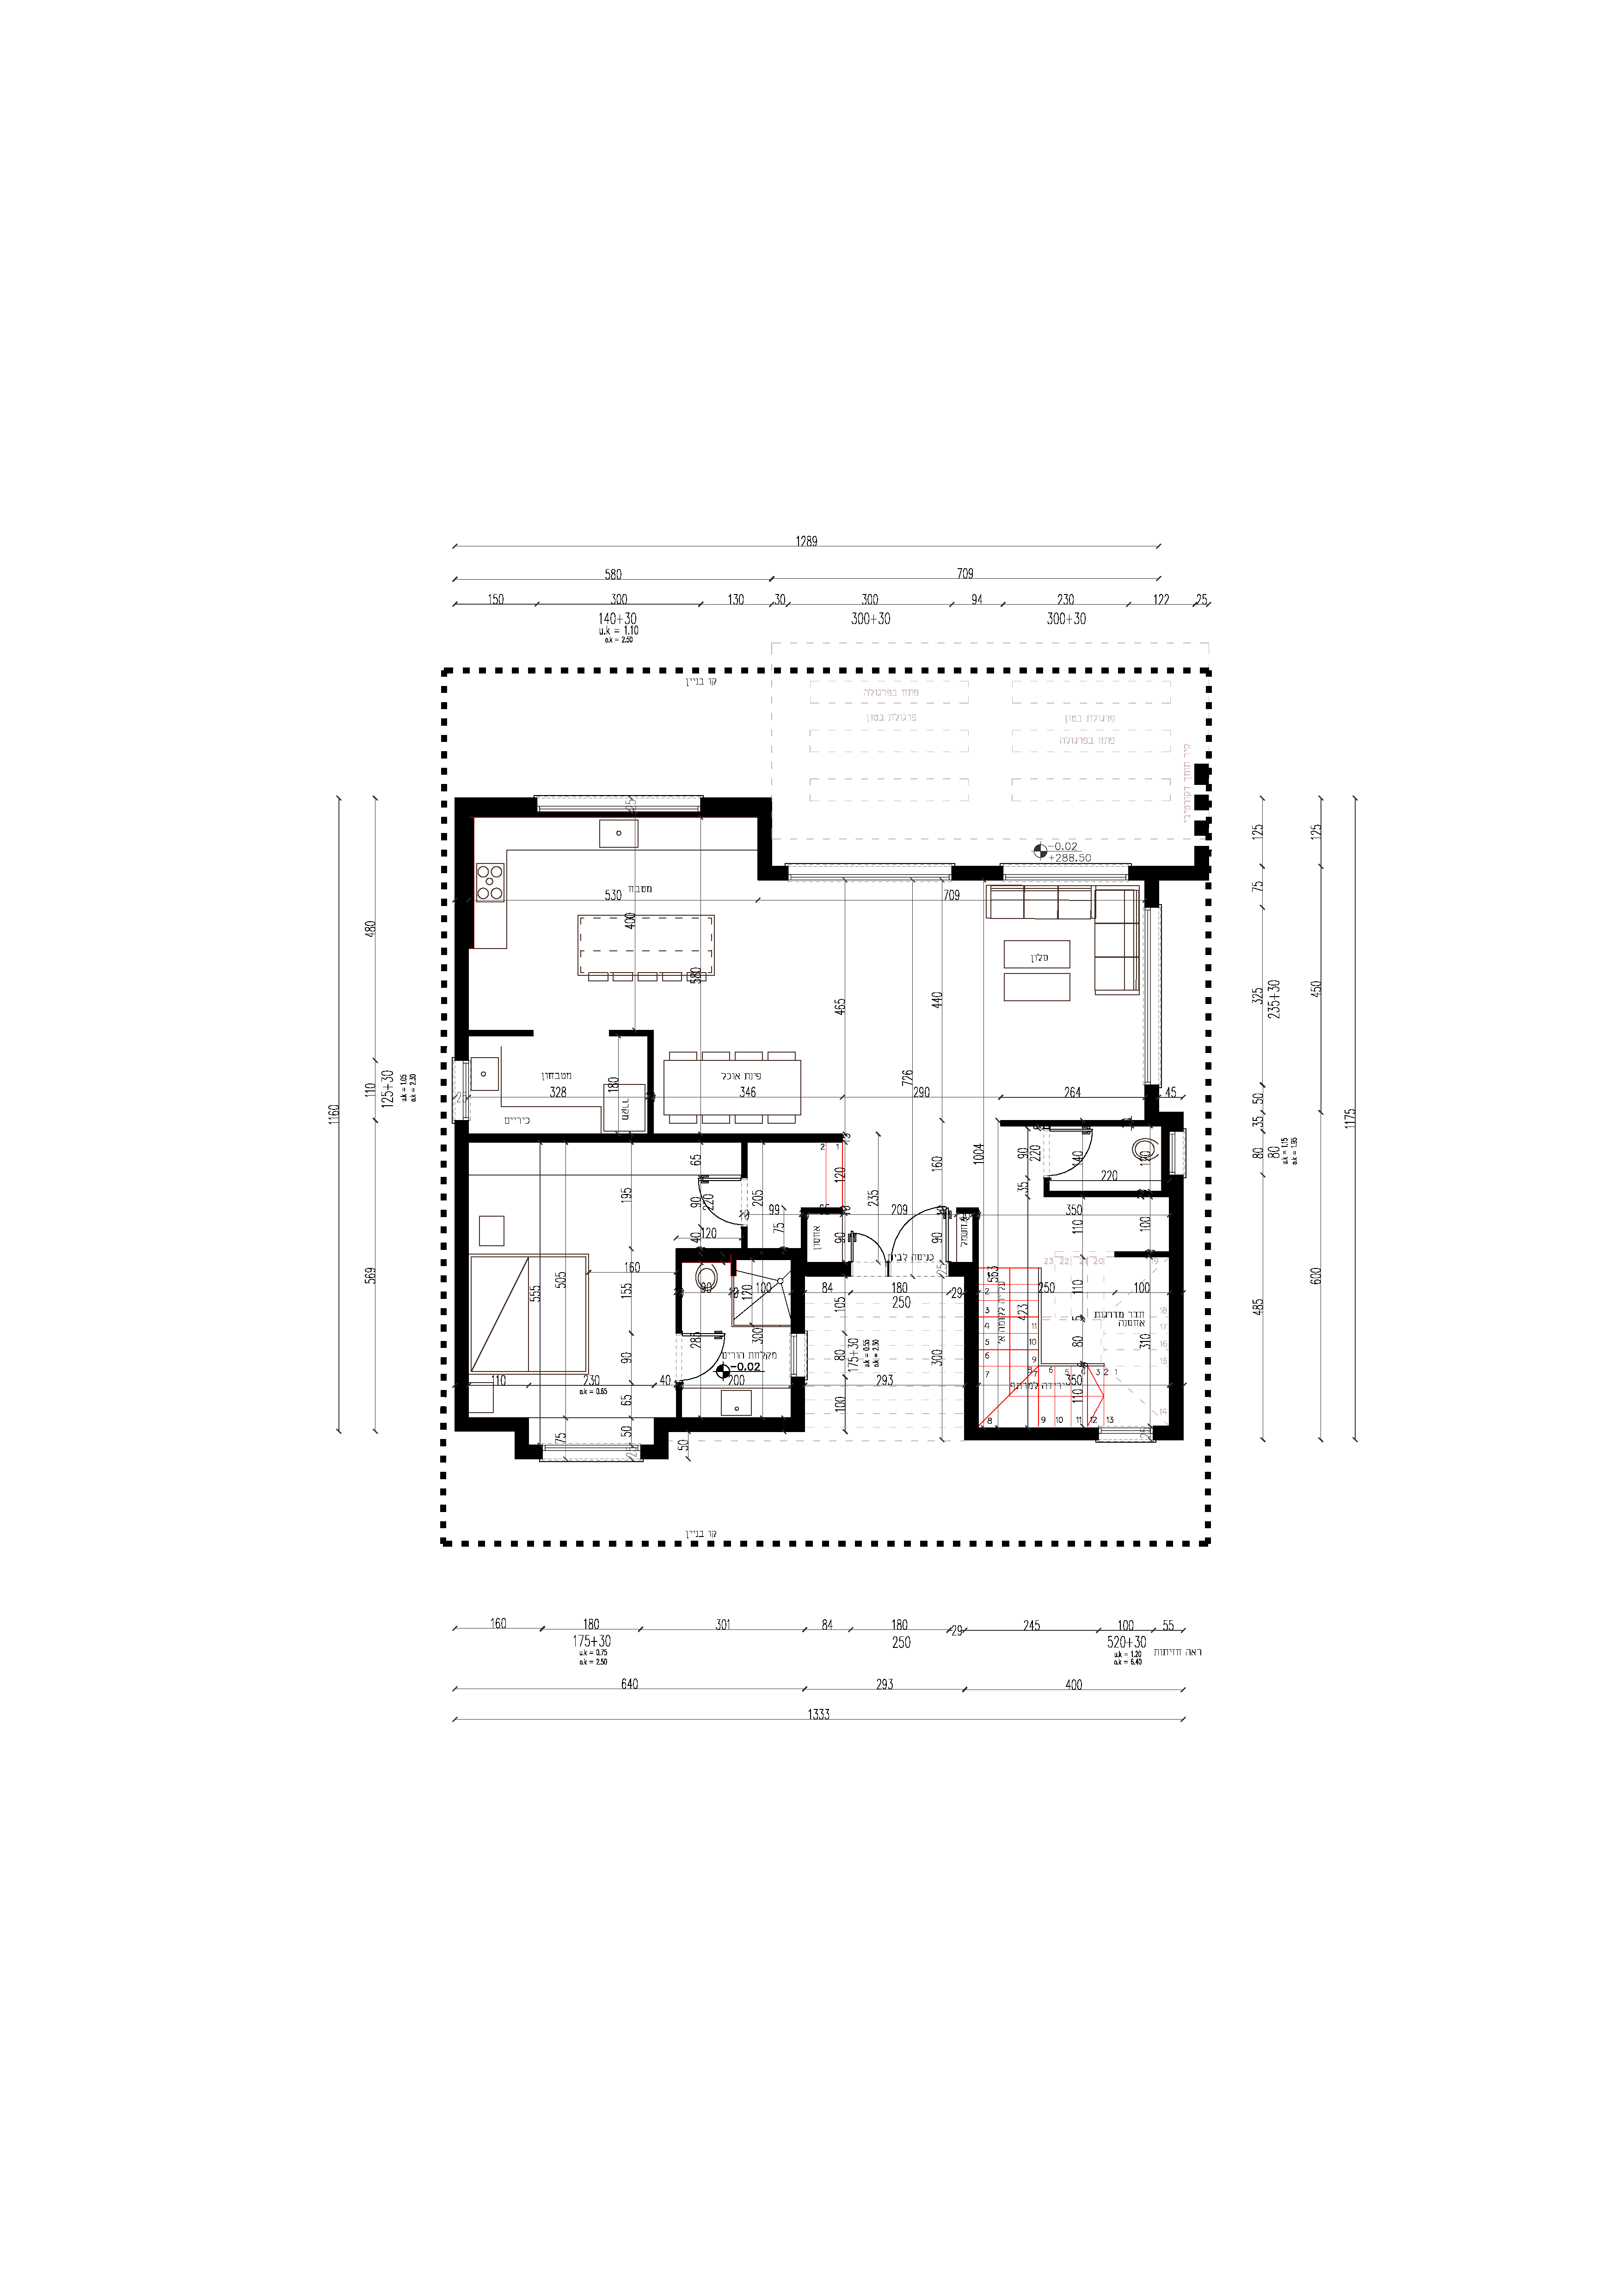door: (897, 1203, 944, 1258), (1057, 1126, 1099, 1177), (695, 1175, 736, 1228), (693, 1328, 727, 1382), (848, 1226, 885, 1258)
wall: (453, 1121, 467, 1430), (453, 798, 469, 1059), (1169, 1180, 1183, 1433), (455, 1135, 841, 1142), (964, 1263, 978, 1438), (657, 1419, 804, 1431), (967, 1430, 1092, 1440), (758, 798, 772, 881), (681, 1249, 788, 1259), (460, 1417, 528, 1433), (792, 1251, 804, 1331), (646, 1030, 653, 1140), (1145, 866, 1197, 881), (514, 1419, 528, 1458), (653, 1421, 667, 1458), (1146, 1112, 1181, 1126), (469, 1030, 534, 1037), (676, 1249, 681, 1330)
window: (537, 788, 700, 814), (1141, 907, 1164, 1086), (786, 859, 951, 884), (542, 1440, 641, 1470), (1004, 861, 1129, 884), (1097, 1423, 1153, 1447), (1167, 1130, 1192, 1175), (786, 1331, 809, 1377)
